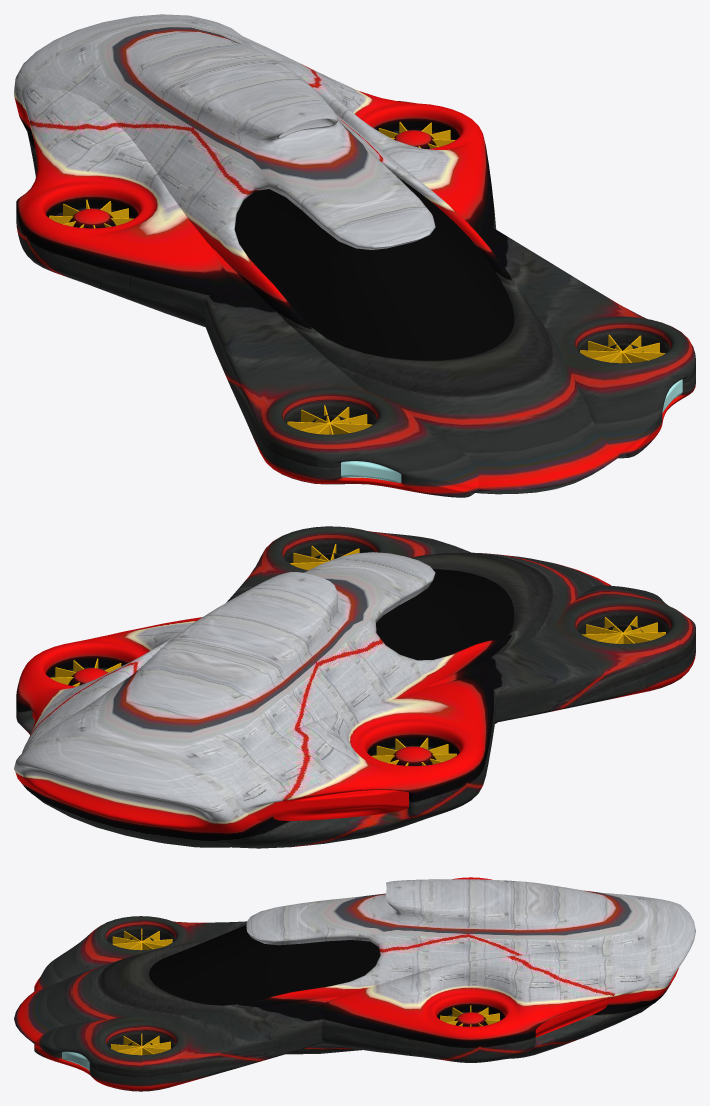
Rendered from spacecraft.glb.
The picture shows the model from 3 angles, top to bottom: view 1: azimuth 30°, elevation 25°; view 2: azimuth 150°, elevation 25°; view 3: azimuth 270°, elevation 25°; orthographic projection. The views are drawn at different scales.
Parts seen in each view (by area): view 1: body2b2, extras body2; view 2: body2b2, extras body2; view 3: body2b2, extras body2.
Boxes of the visible parts, x1,y1,x2,y2 form: body2b2: [14, 14, 695, 497]; extras body2: [49, 122, 682, 482]; body2b2: [14, 526, 695, 848]; extras body2: [32, 544, 665, 820]; body2b2: [14, 877, 695, 1091]; extras body2: [62, 925, 607, 1070].
Size of the model in its own units: 14.83 by 6.03 by 26.89.
10 materials, 6 textured.
